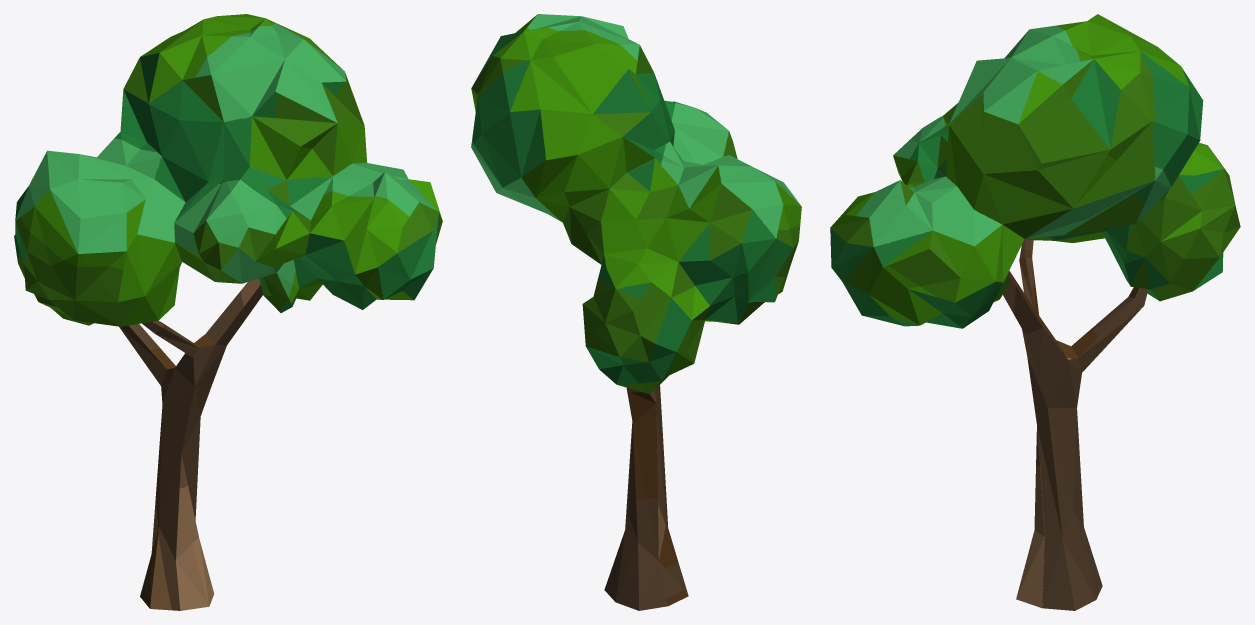
File: tree3.obj
3 views of the same model, side by side, from view 1: azimuth 30°, elevation 25°; view 2: azimuth 150°, elevation 25°; view 3: azimuth 270°, elevation 25° (orthographic). The views are drawn at different scales.
Visible parts, largest first — view 1: _3_tree.002_Sphere.002; view 2: _3_tree.002_Sphere.002; view 3: _3_tree.002_Sphere.002.
Boxes of the visible parts, x1,y1,x2,y2 form: _3_tree.002_Sphere.002: (14, 14, 442, 610); _3_tree.002_Sphere.002: (471, 14, 801, 610); _3_tree.002_Sphere.002: (830, 14, 1240, 610).
Size of the model in its own units: 1.96 by 2.94 by 1.84.
